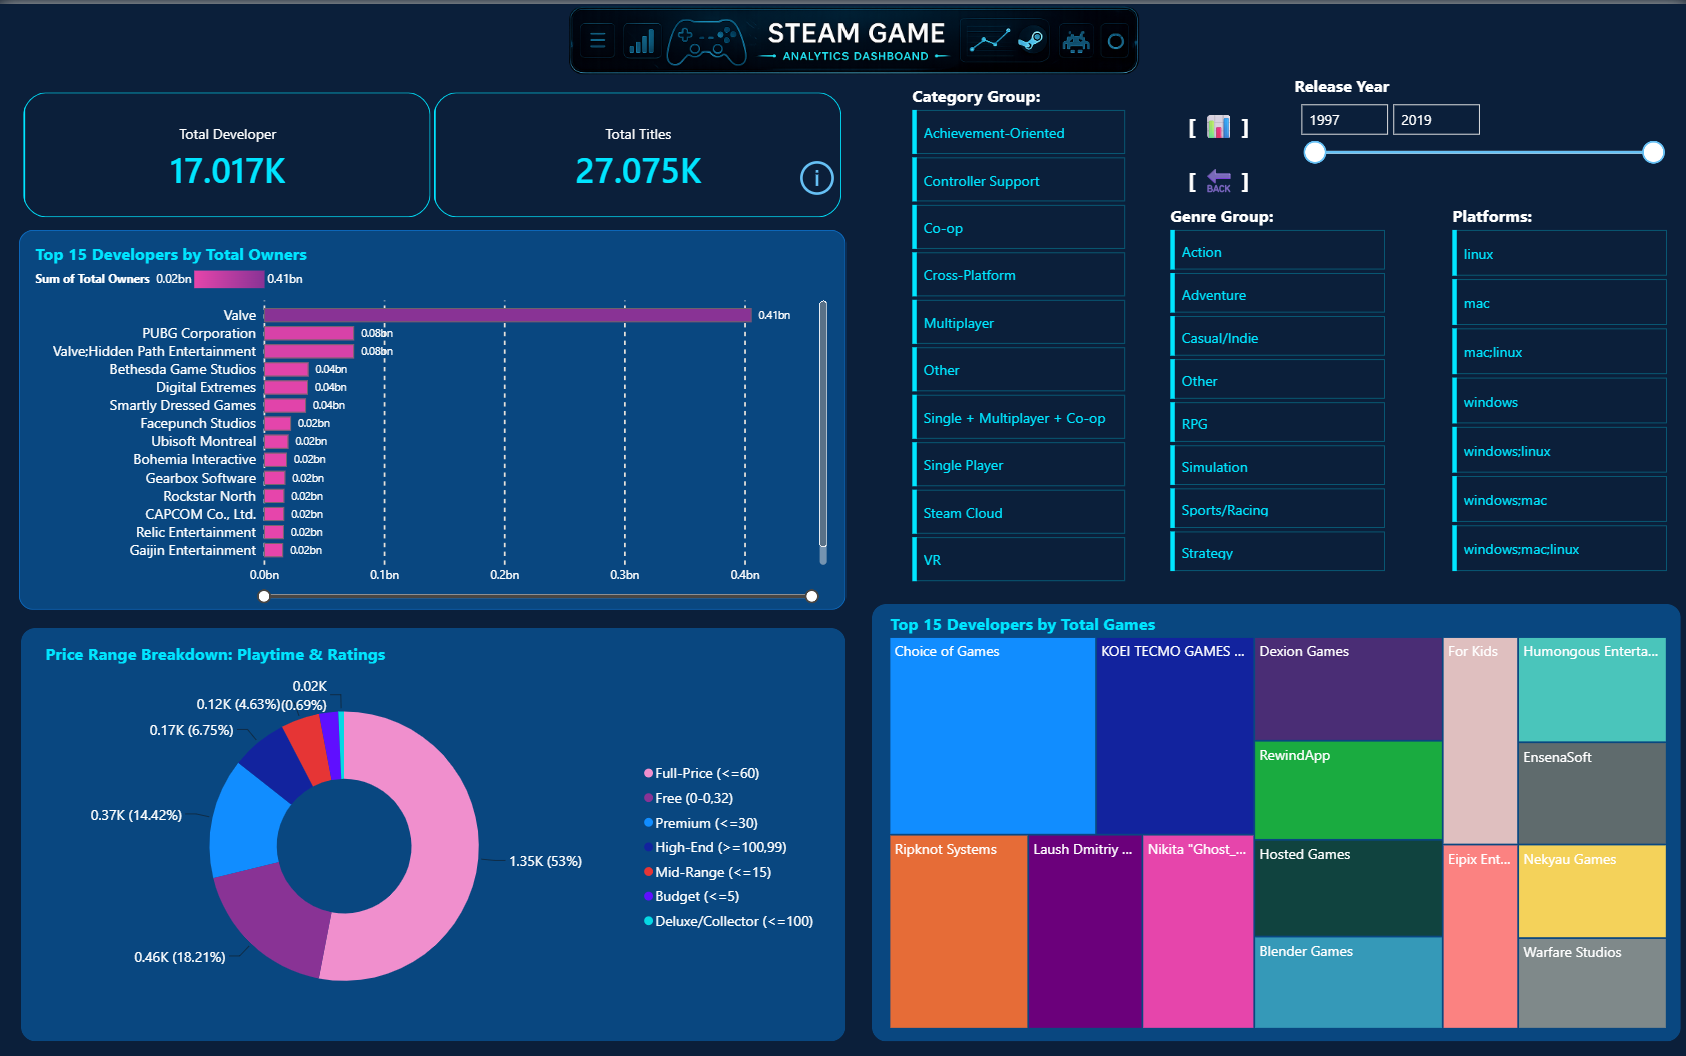

What the dashboard file says about the page in this screenshot:
{"tool":"powerbi","page":{"name":"Developer / Publisher Insights","canvas":[1920,1200],"ordinal":3},"visuals":[{"type":"shape","box":[992.5,682.5,920,497.5],"z":0},{"type":"shape","box":[25,710,937.5,470],"z":1000},{"type":"shape","box":[22,258,940,432],"z":2000},{"type":"barChart","title":"Top 15 Developers by Total Owners","fields":{"Y":["Sum(steam.median_owners)"],"Category":["steam.developer"]},"box":[36,270,910,414],"z":3000},{"type":"treemap","title":"Top 15 Developers by Total Games","fields":{"Group":["steam.developer"],"Values":["CountNonNull(steam.appid)"]},"box":[1008,692,892,478],"z":4000},{"type":"donutChart","title":"Price Range Breakdown: Playtime & Ratings","fields":{"Category":["steam.price_range_label"],"Y":["Avg(steam.average_playtime)"]},"box":[47.5,725,892.5,440],"z":11000},{"type":"advancedSlicerVisual","title":"Genre Group:","fields":{"Values":["steam.genres_group"]},"box":[1326.3,227.4,254,428.3],"z":12000},{"type":"advancedSlicerVisual","title":"Platforms:","fields":{"Values":["steam.platforms"]},"box":[1646.8,227,254,428.3],"z":13000},{"type":"advancedSlicerVisual","title":"Category Group:","fields":{"Values":["steam.categories_group"]},"box":[1032,92,252,576],"z":14000},{"type":"slicer","title":"Release Year","fields":{"Values":["steam_release_date.release_date.Variation.Date Hierarchy.Year"]},"box":[1466.3,79,434.6,118.5],"z":15000},{"type":"actionButton","box":[905.9,172.7,50,50],"z":16000},{"type":"actionButton","box":[1325.9,117.1,120,39.5],"z":21000},{"type":"actionButton","box":[1325.9,177.1,120,39.5],"z":22000},{"type":"cardVisual","fields":{"Data":["Count(steam.developer)","CountNonNull(steam.appid)"]},"box":[22,96,940,152],"z":23000},{"type":"image","box":[22,0,1898,80],"z":23001}]}

Visuals, with their boxes in screenshot pixels (x1, y1, x2, y2), scaled from the page's 1920x1200 canvas onto the 1686x1056 screenshot:
shape: bbox=[872, 601, 1679, 1038]
shape: bbox=[22, 625, 845, 1038]
shape: bbox=[19, 227, 845, 607]
"Top 15 Developers by Total Owners" barChart: bbox=[32, 238, 831, 602]
"Top 15 Developers by Total Games" treemap: bbox=[885, 609, 1668, 1030]
"Price Range Breakdown: Playtime & Ratings" donutChart: bbox=[42, 638, 825, 1025]
"Genre Group:" advancedSlicerVisual: bbox=[1165, 200, 1388, 577]
"Platforms:" advancedSlicerVisual: bbox=[1446, 200, 1669, 577]
"Category Group:" advancedSlicerVisual: bbox=[906, 81, 1128, 588]
"Release Year" slicer: bbox=[1288, 70, 1669, 174]
actionButton: bbox=[795, 152, 839, 196]
actionButton: bbox=[1164, 103, 1270, 138]
actionButton: bbox=[1164, 156, 1270, 191]
cardVisual - Count(steam.developer) x CountNonNull(steam.appid): bbox=[19, 84, 845, 218]
image: bbox=[19, 0, 1685, 70]
